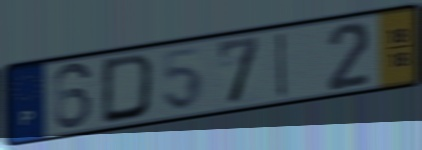2: (325, 19, 375, 93)
5: (162, 45, 206, 113)
6: (52, 60, 94, 132)
7: (215, 33, 262, 108)
D: (99, 51, 157, 127)
I: (276, 30, 289, 101)
